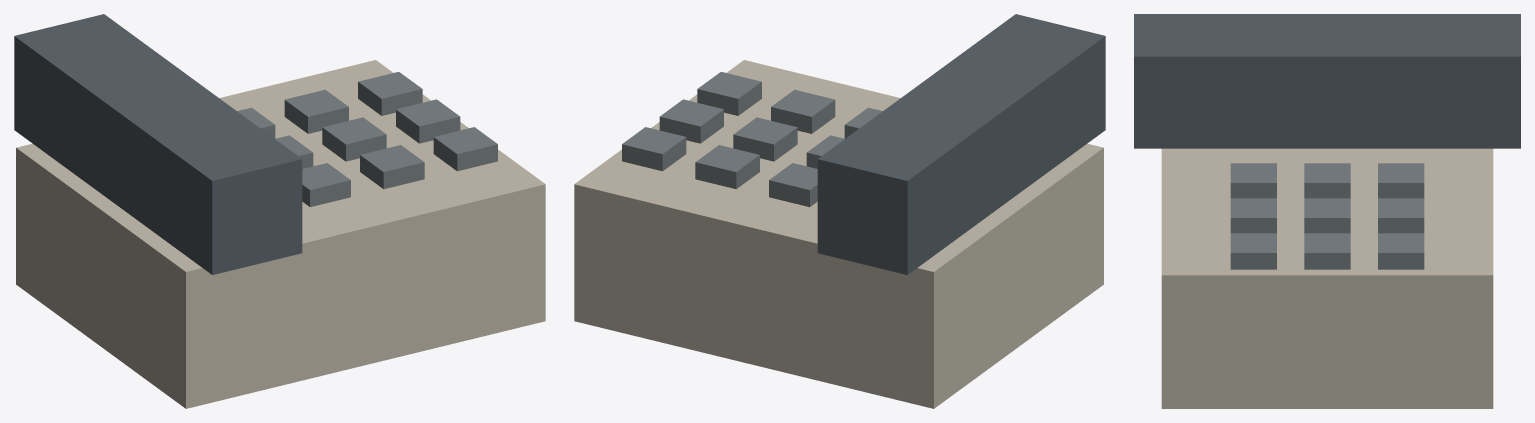
Rendered from desk_phone.glb.
3 views of the same model, side by side, from view 1: azimuth 30°, elevation 25°; view 2: azimuth 150°, elevation 25°; view 3: azimuth 270°, elevation 25° (orthographic). The views are drawn at different scales.
Visible parts, largest first — view 1: body; view 2: body; view 3: body.
Boxes of the visible parts, <box> form: body: <box>14,14,545,408</box>; body: <box>574,14,1105,408</box>; body: <box>1134,14,1520,408</box>.
Bounding box in the file's own units: 0.22 × 0.1375 × 0.21.
